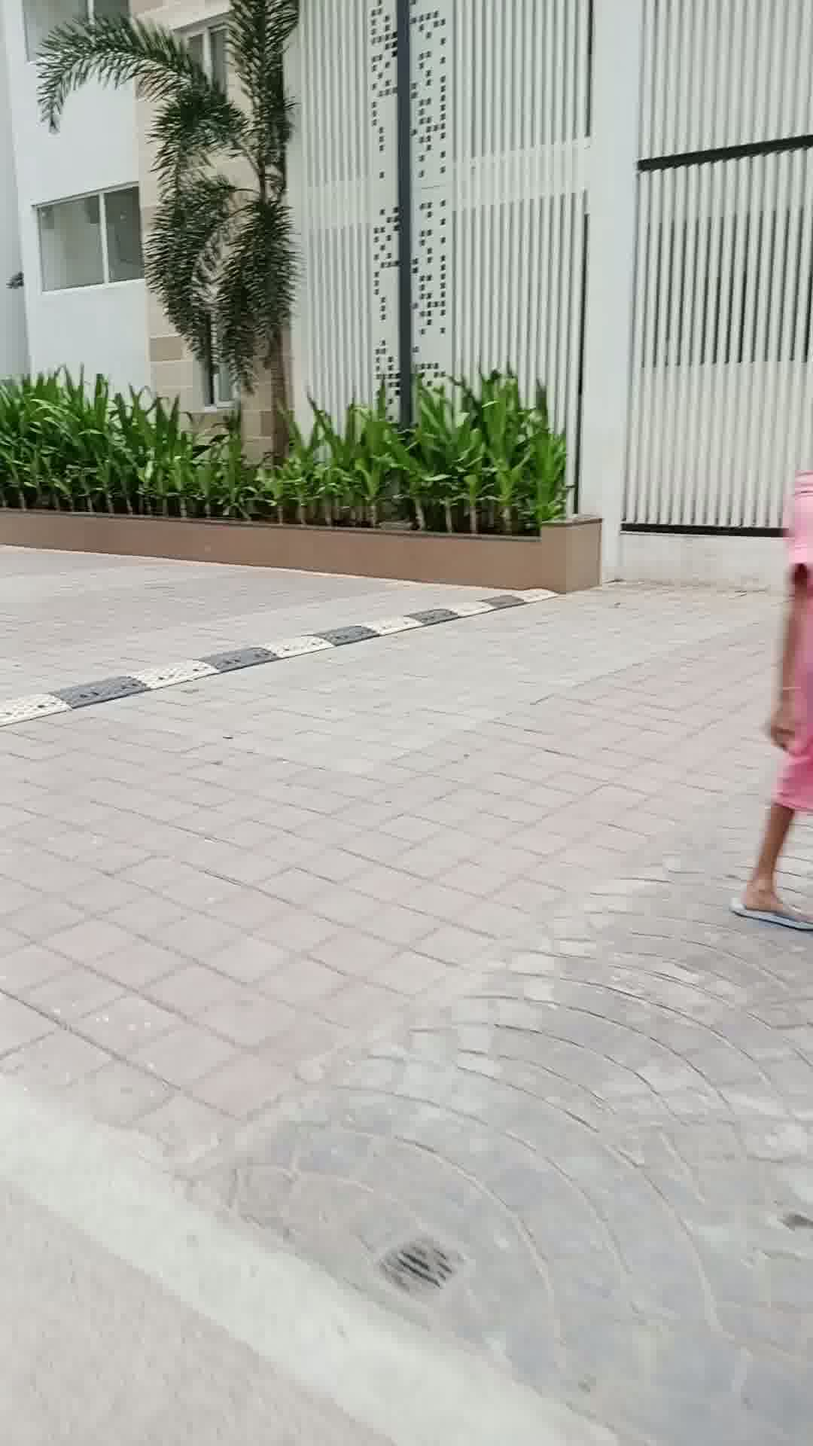tree: (40, 0, 322, 501)
